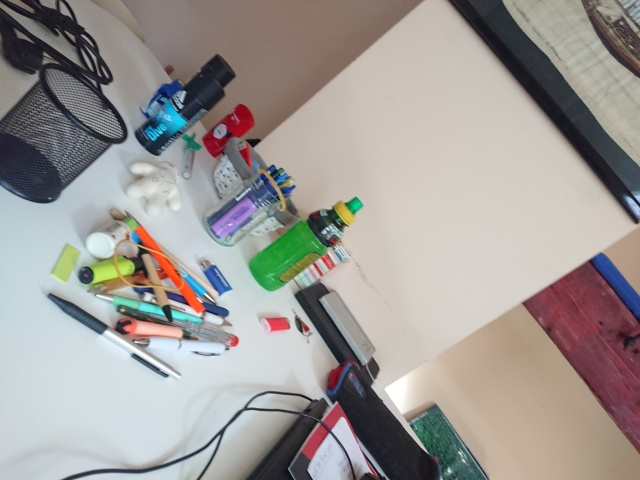Vindi Iso Sport Lemon-Grapefruit 500mL: (247, 195, 364, 293)
